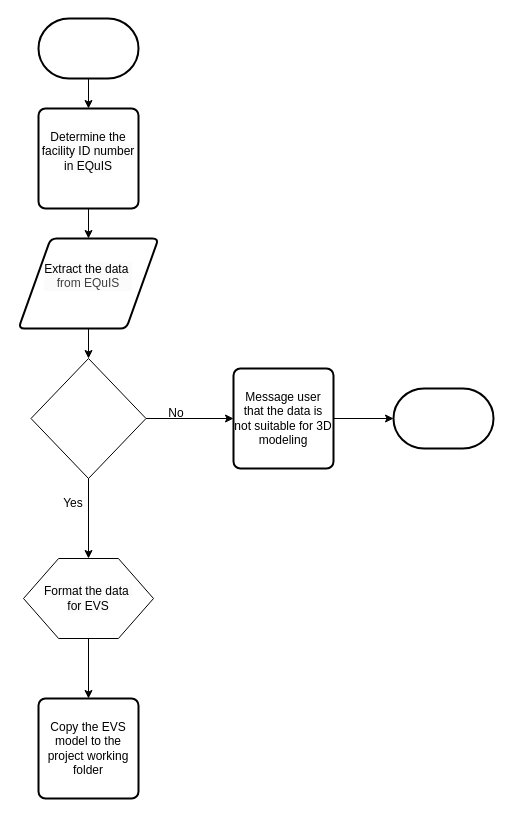
This 511x816 diagram has some shape labels left out. Each missing label, with the centre of its shape:
"End" belongs at point (443, 418).
"Is the data valid data for 3D modeling" belongs at point (88, 418).
"Start" belongs at point (88, 48).
